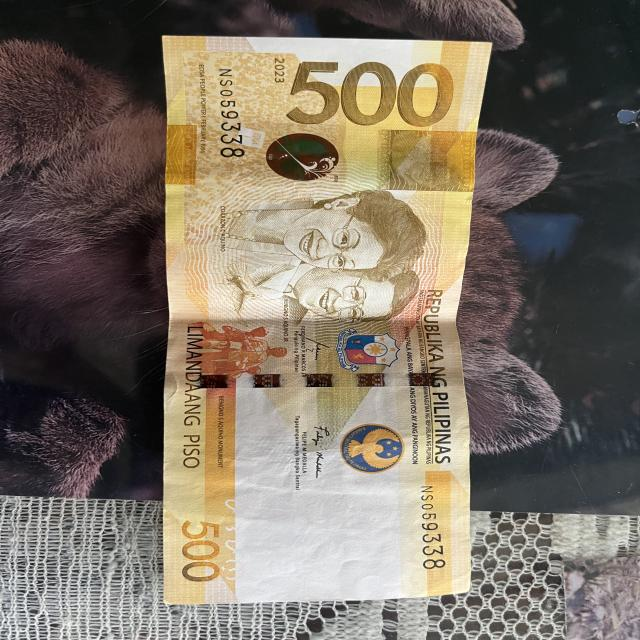concealed_value: (376, 128, 477, 192)
optically_variable_device: (243, 123, 350, 190)
see_through_mark: (210, 492, 268, 586)
serial_number: (412, 483, 458, 576), (210, 64, 250, 167)
